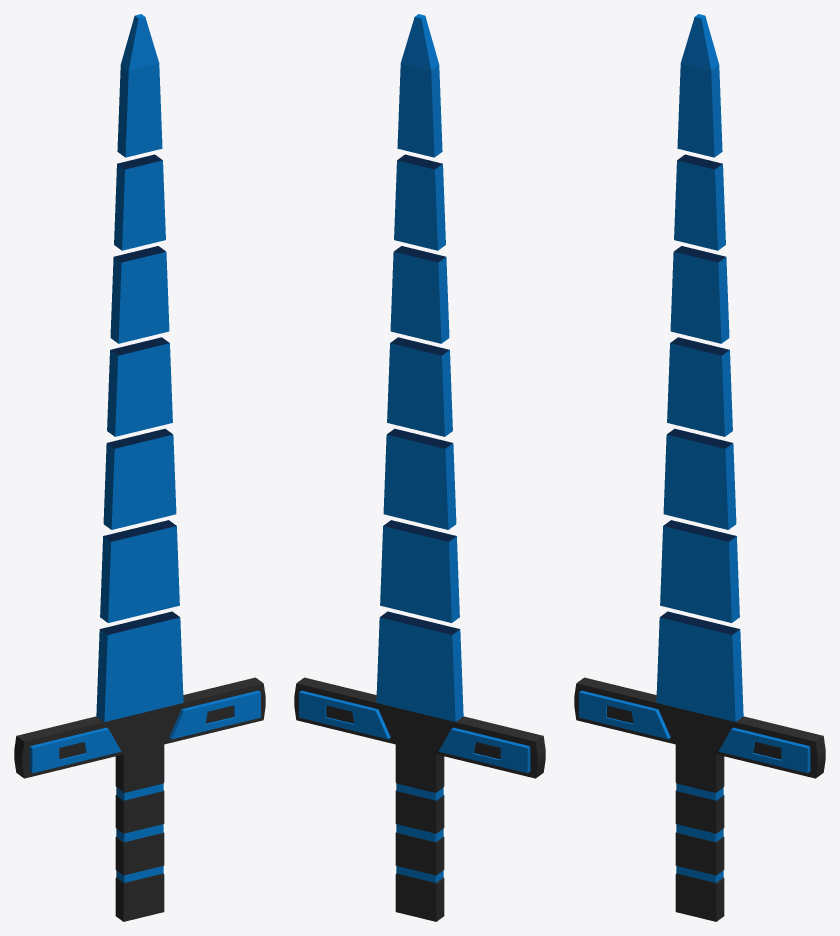
The model's file is swordextra.fbx.
3 views of the same model, side by side, from view 1: azimuth 30°, elevation 25°; view 2: azimuth 150°, elevation 25°; view 3: azimuth 330°, elevation 25° (orthographic).
Visible parts, largest first — view 1: Cube.001; view 2: Cube.001; view 3: Cube.001.
Boxes of the visible parts, x1,y1,x2,y2 form: Cube.001: (14, 14, 265, 921); Cube.001: (294, 14, 545, 921); Cube.001: (574, 14, 825, 921).
Bounding box in the file's own units: 73.16 × 258 × 6.93.
